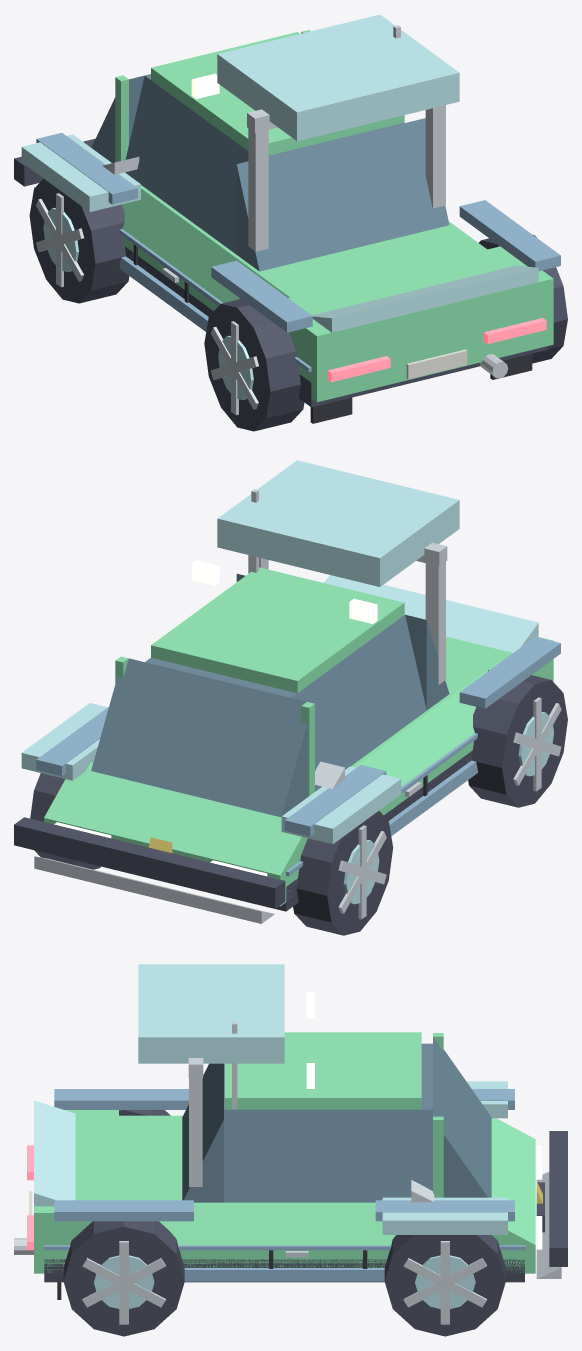
File: canyon_bison.glb
The picture shows the model from 3 angles, top to bottom: view 1: azimuth 30°, elevation 25°; view 2: azimuth 150°, elevation 25°; view 3: azimuth 270°, elevation 25°; orthographic projection. The views are drawn at different scales.
Parts seen in each view (by area): view 1: RearWindow.158, RoofTent.018, Tail.058, CabinSideL.055, Wheel_RL.218, BodyUpper.055, Wheel_FL.218, Body.258, Roof.258, ShoulderL.055, Ducktail.043, Fender-1.051 (+24 smaller); view 2: Windshield.158, RoofTent.018, Roof.258, Nose.055, CabinSideL.055, BashBar.051, Wheel_RL.218, Wheel_FL.218, ShoulderL.055, Ducktail.043, Bumper.254, Fender-1.051 (+24 smaller); view 3: CabinSideR.055, RoofTent.018, Roof.258, ShoulderR.055, Wheel_RR.218, Wheel_FR.218, Windshield.158, BodyUpper.055, Tail.058, Body.258, Nose.055, Ducktail.043 (+23 smaller).
Part boxes in pixels (bbox=[...]): RearWindow.158: bbox=[236, 118, 449, 271]; RoofTent.018: bbox=[217, 14, 459, 141]; Tail.058: bbox=[288, 246, 553, 371]; CabinSideL.055: bbox=[125, 76, 248, 254]; Wheel_RL.218: bbox=[204, 299, 304, 431]; BodyUpper.055: bbox=[141, 185, 486, 297]; Wheel_FL.218: bbox=[29, 178, 129, 303]; Body.258: bbox=[123, 237, 553, 402]; Roof.258: bbox=[151, 32, 404, 155]; ShoulderL.055: bbox=[122, 188, 289, 302]; Ducktail.043: bbox=[312, 265, 538, 332]; Fender-1.051: bbox=[21, 134, 140, 211]; Windshield.158: bbox=[91, 658, 307, 817]; RoofTent.018: bbox=[217, 460, 459, 586]; Roof.258: bbox=[151, 567, 404, 693]; Nose.055: bbox=[44, 762, 307, 875]; CabinSideL.055: bbox=[292, 615, 426, 791]; BashBar.051: bbox=[14, 817, 285, 908]; Wheel_RL.218: bbox=[468, 675, 567, 807]; Wheel_FL.218: bbox=[293, 811, 393, 935]; ShoulderL.055: bbox=[354, 670, 487, 786]; Ducktail.043: bbox=[324, 575, 538, 652]; Bumper.254: bbox=[34, 856, 274, 923]; Fender-1.051: bbox=[281, 766, 401, 844]; CabinSideR.055: bbox=[224, 1109, 432, 1202]; RoofTent.018: bbox=[138, 964, 284, 1063]; Roof.258: bbox=[225, 1032, 421, 1109]; ShoulderR.055: bbox=[159, 1204, 395, 1245]; Wheel_RR.218: bbox=[63, 1221, 184, 1336]; Wheel_FR.218: bbox=[384, 1235, 505, 1336]; Windshield.158: bbox=[433, 1037, 491, 1197]; BodyUpper.055: bbox=[119, 1115, 375, 1204]; Tail.058: bbox=[34, 1110, 118, 1245]; Body.258: bbox=[34, 1245, 535, 1273]; Nose.055: bbox=[491, 1118, 535, 1245]; Ducktail.043: bbox=[34, 1100, 75, 1206].
Size of the model in its own units: 3.16 by 2.94 by 5.3.
